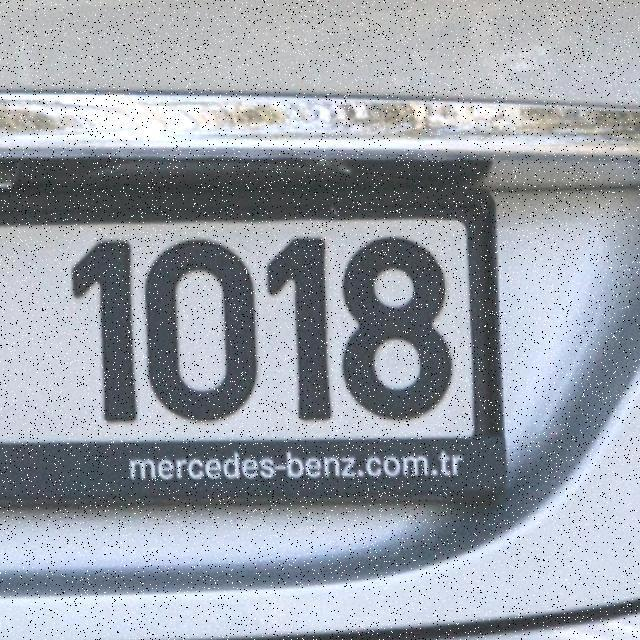LicensePlate: (0, 158, 525, 505)
